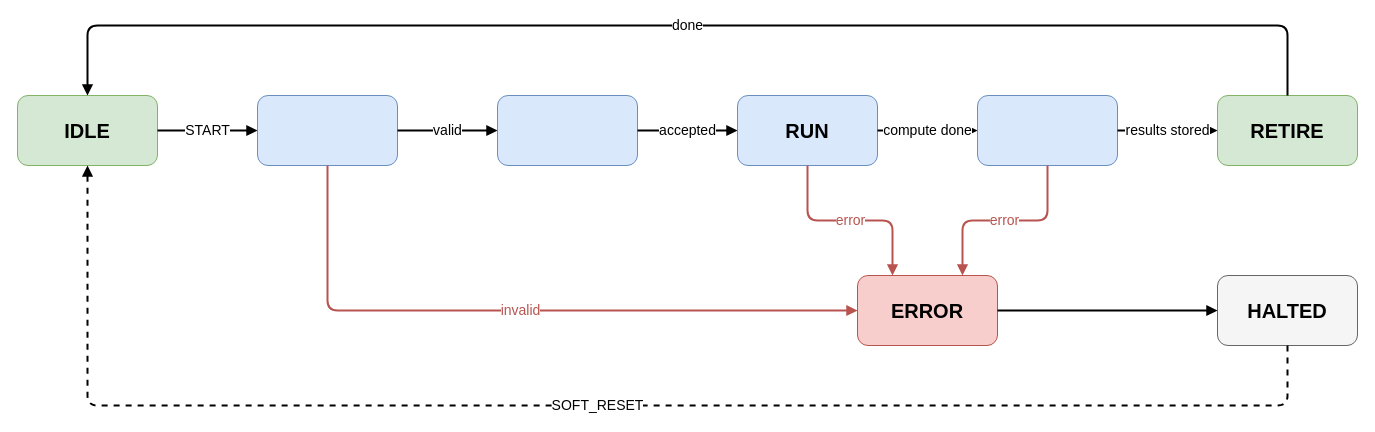
This 1375x432 diagram has some shape labels left out. Here are the shapes that lost their labels. From the top down, the box of each, then its label:
(256, 94, 398, 166): CHECK
(496, 94, 638, 166): ISSUE
(976, 94, 1118, 166): DRAIN
